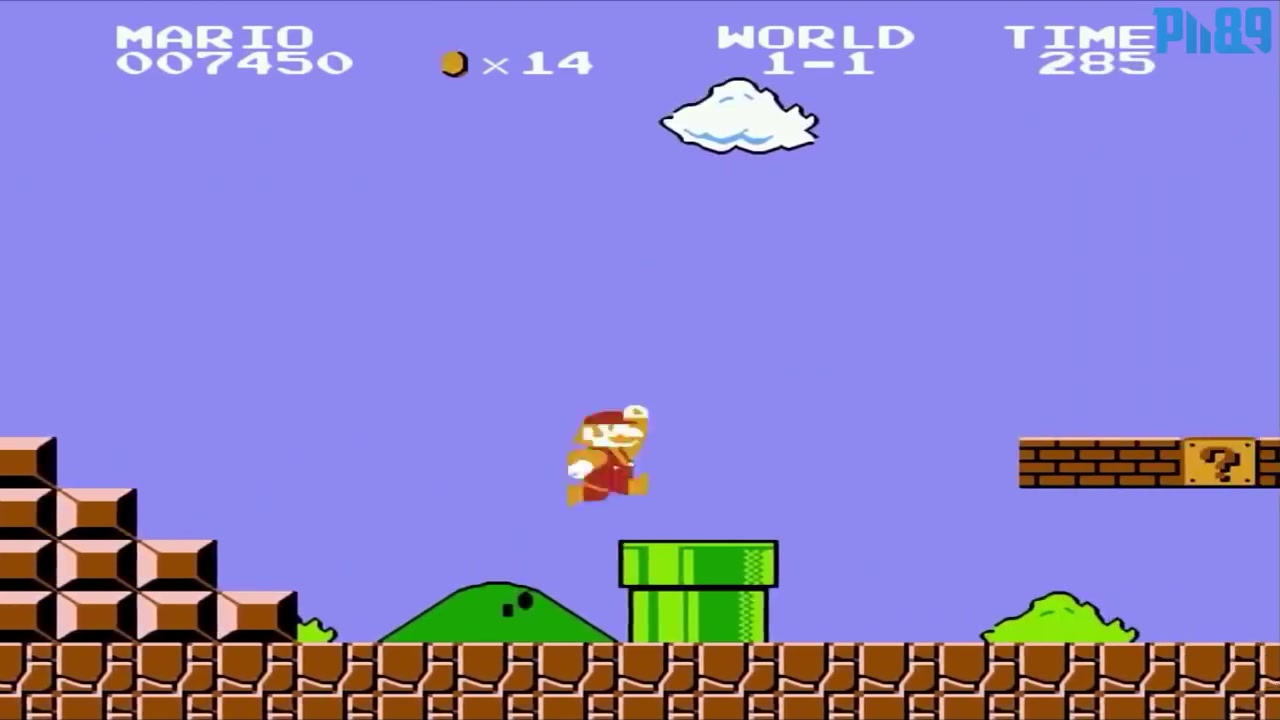mario: (555, 403, 664, 507)
